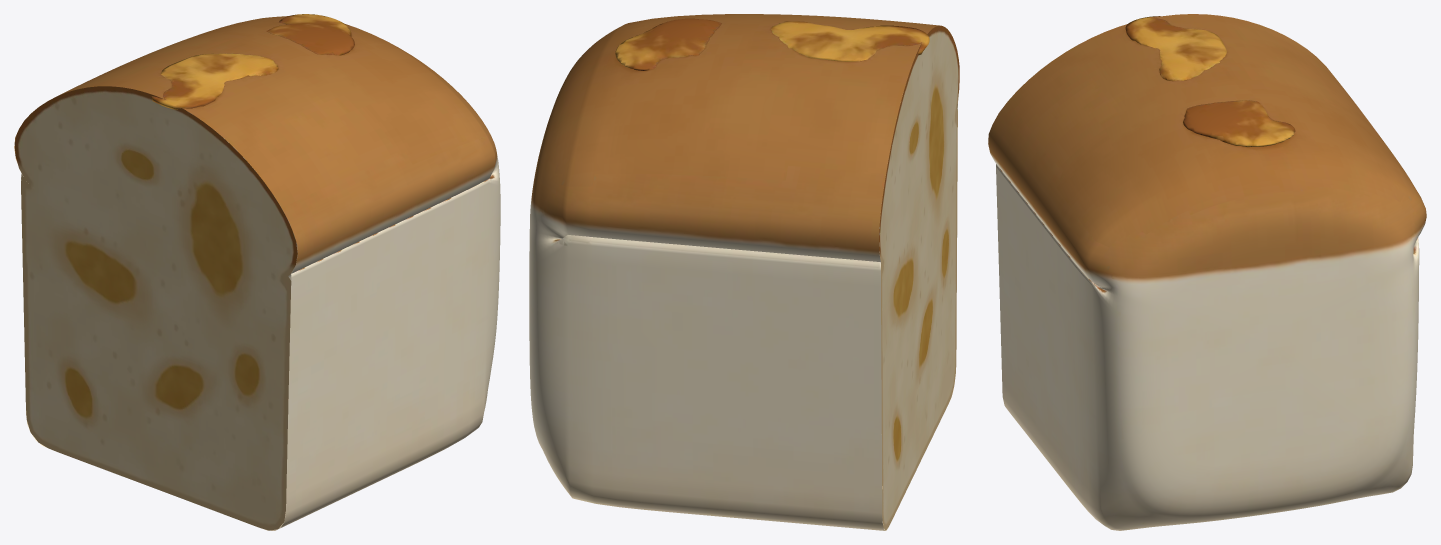
The model's file is loaf--cheese-ground.glb.
3 views of the same model, side by side, from view 1: azimuth 30°, elevation 25°; view 2: azimuth 150°, elevation 25°; view 3: azimuth 270°, elevation 25° (orthographic). The views are drawn at different scales.
Visible parts, largest first — view 1: loaf_cheese-ground; view 2: loaf_cheese-ground; view 3: loaf_cheese-ground.
Boxes of the visible parts, bbox=[...] form: loaf_cheese-ground: bbox=[14, 14, 500, 530]; loaf_cheese-ground: bbox=[529, 14, 959, 530]; loaf_cheese-ground: bbox=[988, 14, 1426, 530].
Size of the model in its own units: 0.7191 by 0.7207 by 0.7477.
Materials: 1 (1 with a texture image).
